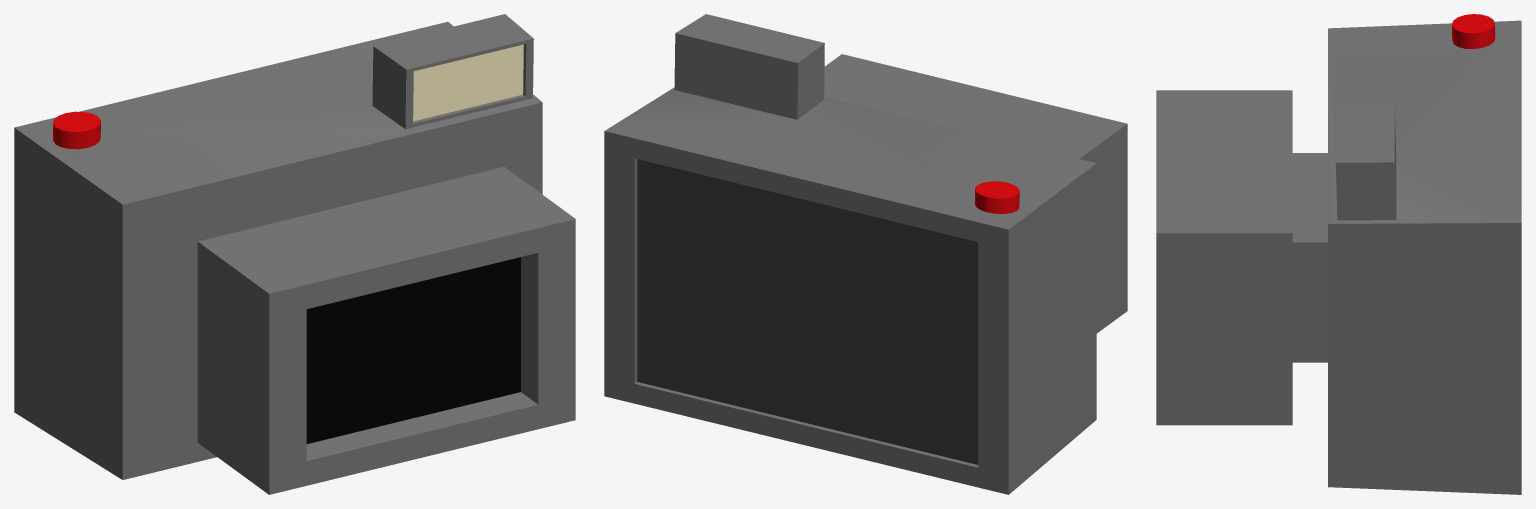
File: camera.fbx
3 renders of one model, left to right at view 1: azimuth 30°, elevation 25°; view 2: azimuth 150°, elevation 25°; view 3: azimuth 270°, elevation 25°, orthographic. The views are drawn at different scales.
Parts seen in each view (by area): view 1: Cube; view 2: Cube; view 3: Cube.
Part boxes in pixels (bbox=[...]): Cube: bbox=[14, 14, 575, 494]; Cube: bbox=[604, 14, 1127, 494]; Cube: bbox=[1156, 14, 1521, 494].
Bounding box in the file's own units: 330 × 249 × 252.
